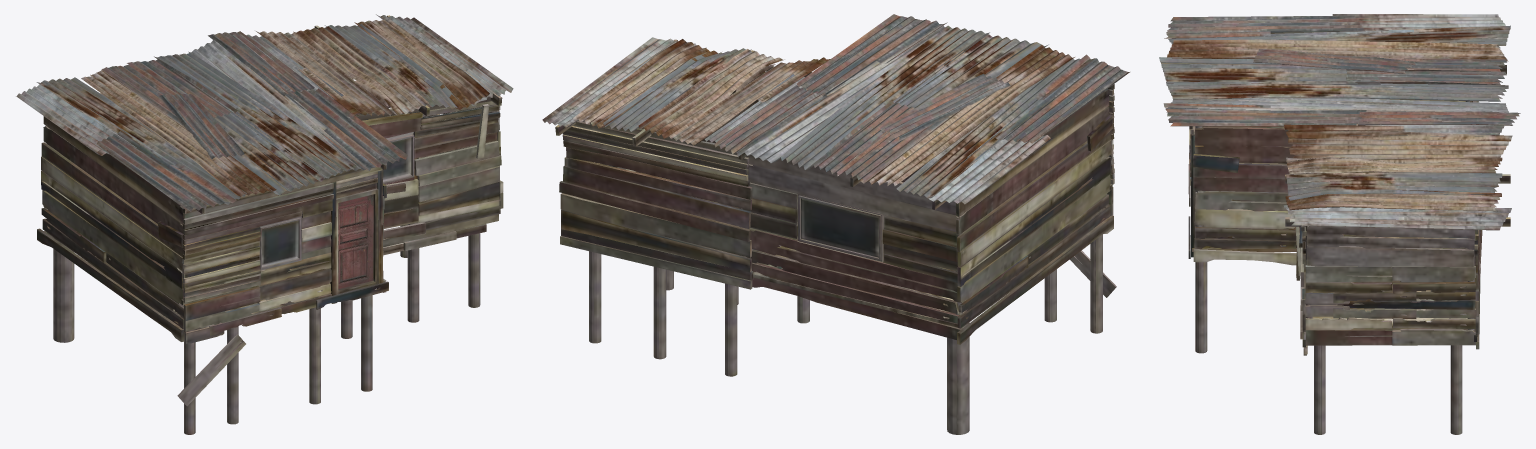
The model's file is woodhouse.glb.
The picture shows the model from 3 angles, left to right: view 1: azimuth 30°, elevation 25°; view 2: azimuth 150°, elevation 25°; view 3: azimuth 270°, elevation 25°; orthographic projection. The views are drawn at different scales.
Parts seen in each view (by area): view 1: River house B; view 2: River house B; view 3: River house B.
Boxes of the visible parts, x1,y1,x2,y2 form: River house B: (16,14,513,434); River house B: (542,14,1129,434); River house B: (1159,14,1520,434).
Bounding box in the file's own units: 23.24 × 13.44 × 18.2.
Materials: 3 (3 with a texture image).
